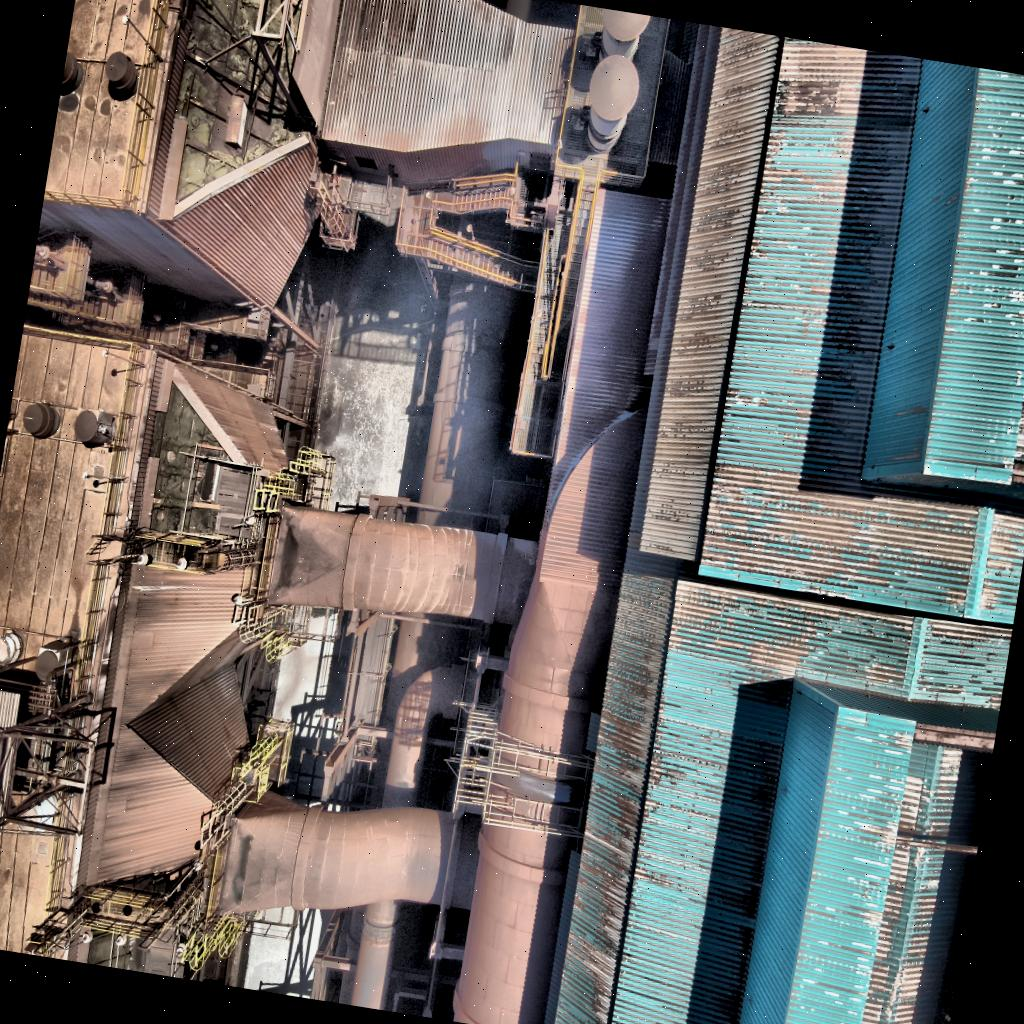Failures: (156, 0, 331, 230), (132, 361, 254, 549), (131, 364, 254, 541), (78, 916, 140, 969)
